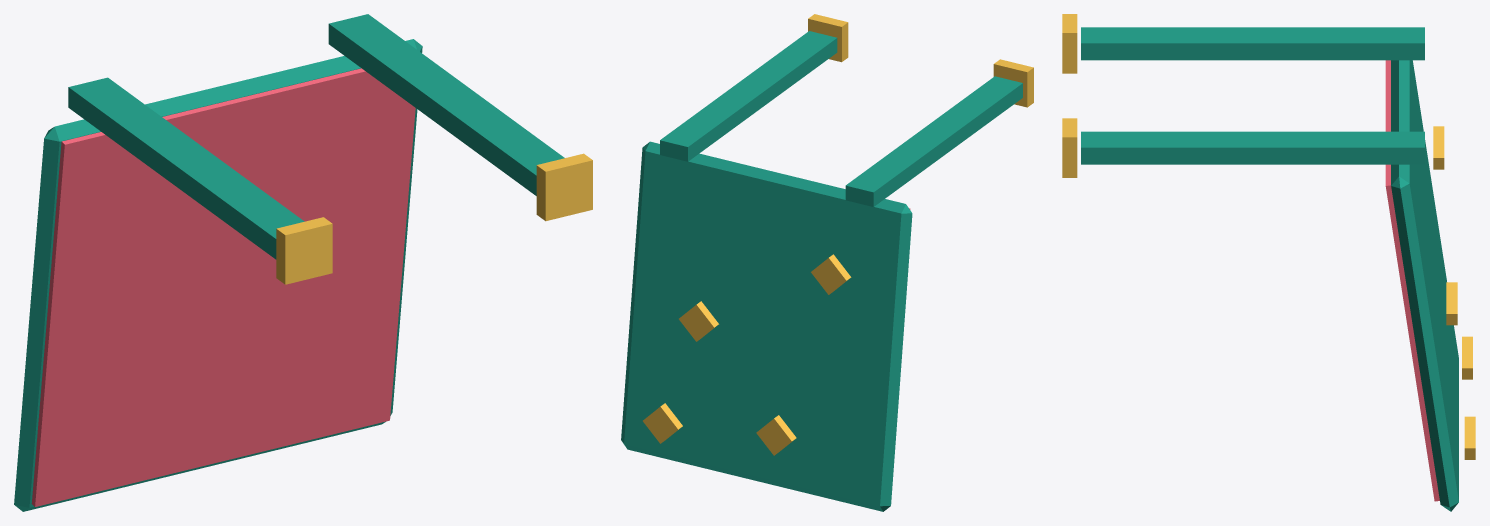
Rendered from CatCafe_Accessory_Cape.fbx.
The picture shows the model from 3 angles, left to right: view 1: azimuth 30°, elevation 25°; view 2: azimuth 150°, elevation 25°; view 3: azimuth 270°, elevation 25°; orthographic projection. The views are drawn at different scales.
Visible parts, largest first — view 1: CatCafe_Accessory_Cape; view 2: CatCafe_Accessory_Cape; view 3: CatCafe_Accessory_Cape.
Part boxes in pixels (bbox=[...]): CatCafe_Accessory_Cape: bbox=[14, 14, 592, 511]; CatCafe_Accessory_Cape: bbox=[621, 14, 1033, 511]; CatCafe_Accessory_Cape: bbox=[1062, 14, 1475, 511].
Size of the model in its own units: 0.96 by 1.08 by 1.11.
Materials: 1 (1 with a texture image).
